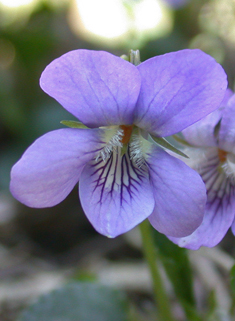violet: (18, 42, 214, 239)
